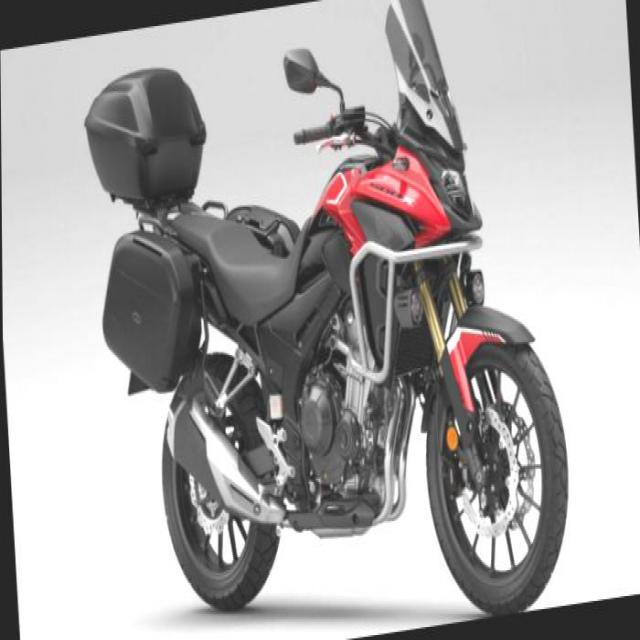CB500X: (139, 0, 578, 639)
